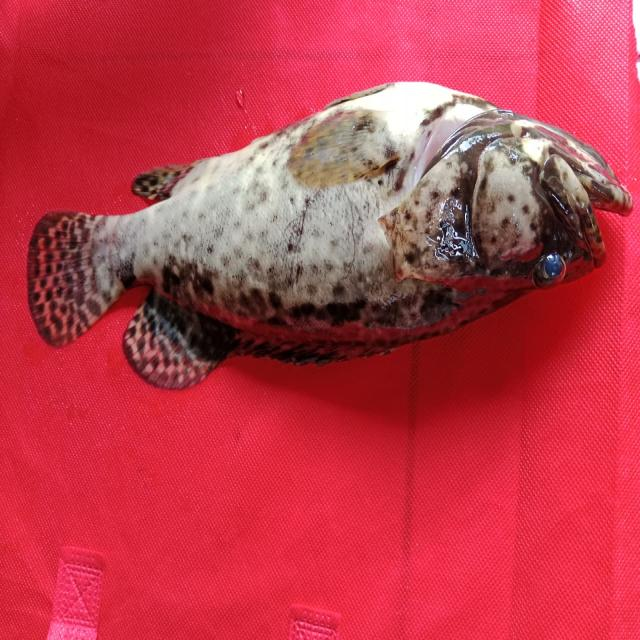ikan: (25, 52, 634, 404)
